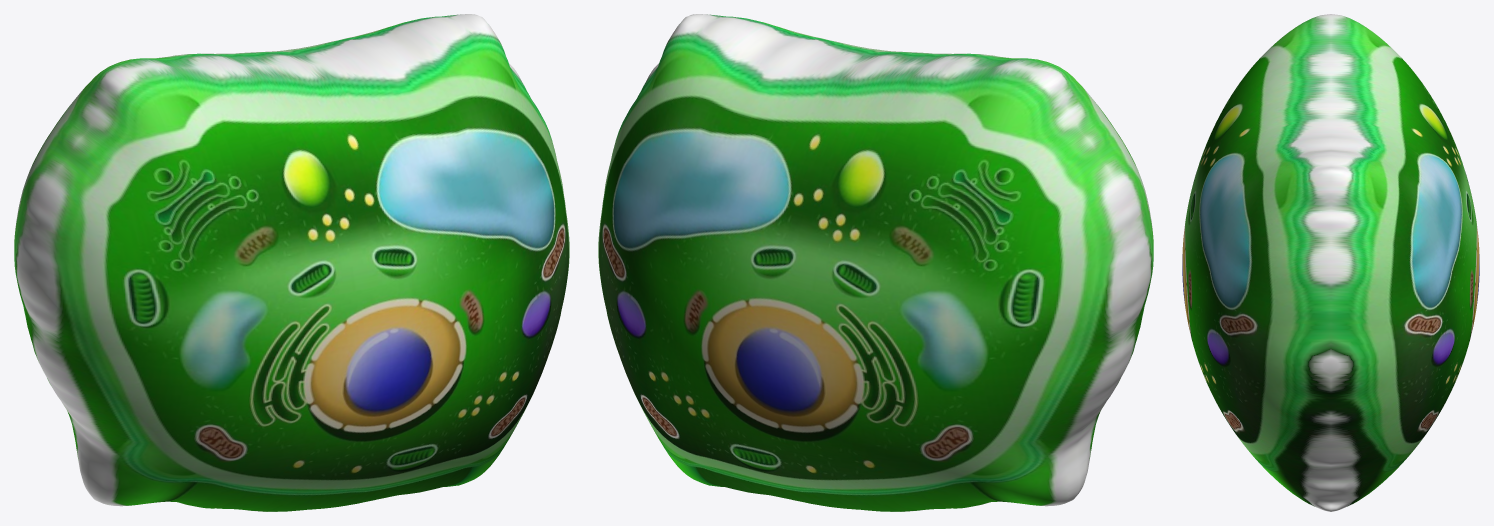
Rendered from celula_vegetal (1).glb.
The picture shows the model from 3 angles, left to right: view 1: azimuth 30°, elevation 25°; view 2: azimuth 150°, elevation 25°; view 3: azimuth 270°, elevation 25°; orthographic projection. The views are drawn at different scales.
Parts seen in each view (by area): view 1: 03a6a3c9-921a-467a-8cb8-5295b96edeb3_1; view 2: 03a6a3c9-921a-467a-8cb8-5295b96edeb3_1; view 3: 03a6a3c9-921a-467a-8cb8-5295b96edeb3_1.
Part boxes in pixels (left/top/right/bottom): 03a6a3c9-921a-467a-8cb8-5295b96edeb3_1: left=14, top=14, right=569, bottom=511; 03a6a3c9-921a-467a-8cb8-5295b96edeb3_1: left=598, top=14, right=1153, bottom=511; 03a6a3c9-921a-467a-8cb8-5295b96edeb3_1: left=1182, top=14, right=1479, bottom=511.
Bounding box in the file's own units: 8.92 × 7.94 × 5.77.
Materials: 1 (1 with a texture image).
